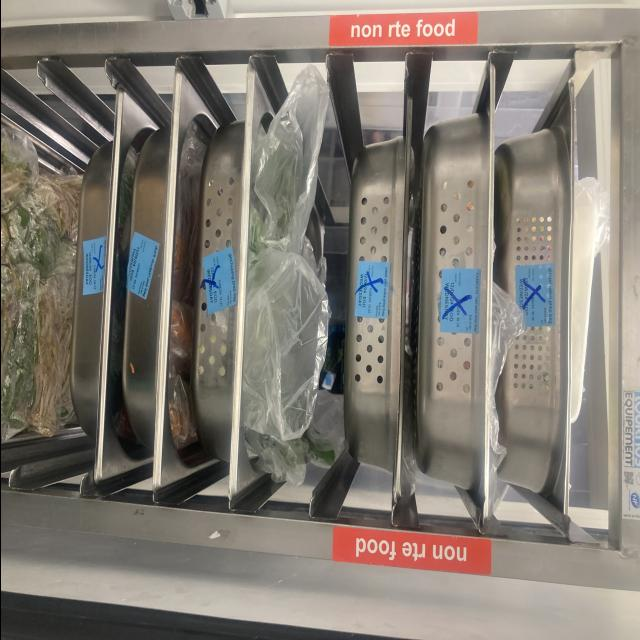product-labels: (438, 269, 480, 335), (514, 262, 554, 328), (202, 245, 238, 317), (124, 232, 160, 300), (354, 262, 390, 320), (80, 235, 110, 297)
